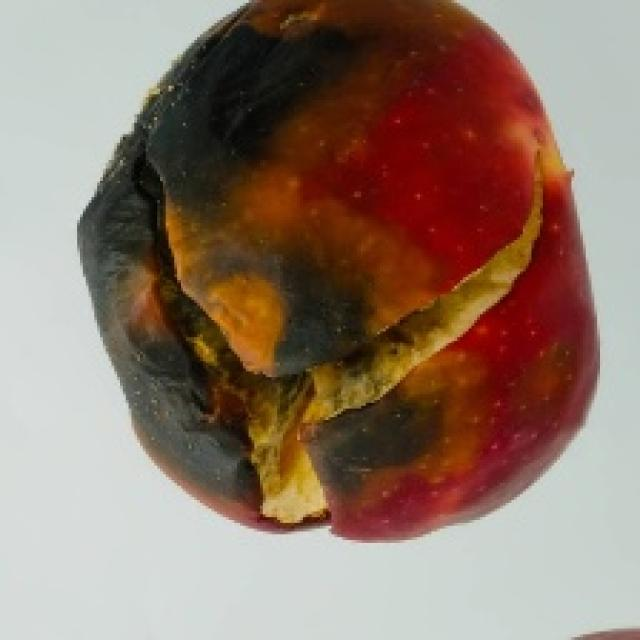rotten_apple: (80, 0, 601, 533)
